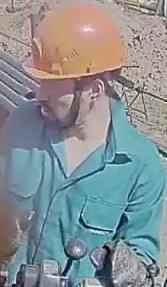gloves: (88, 237, 153, 287)
helmet: (20, 0, 128, 91)
vest: (1, 95, 166, 286)
